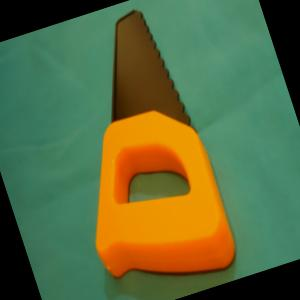serrote: (26, 1, 244, 300)
